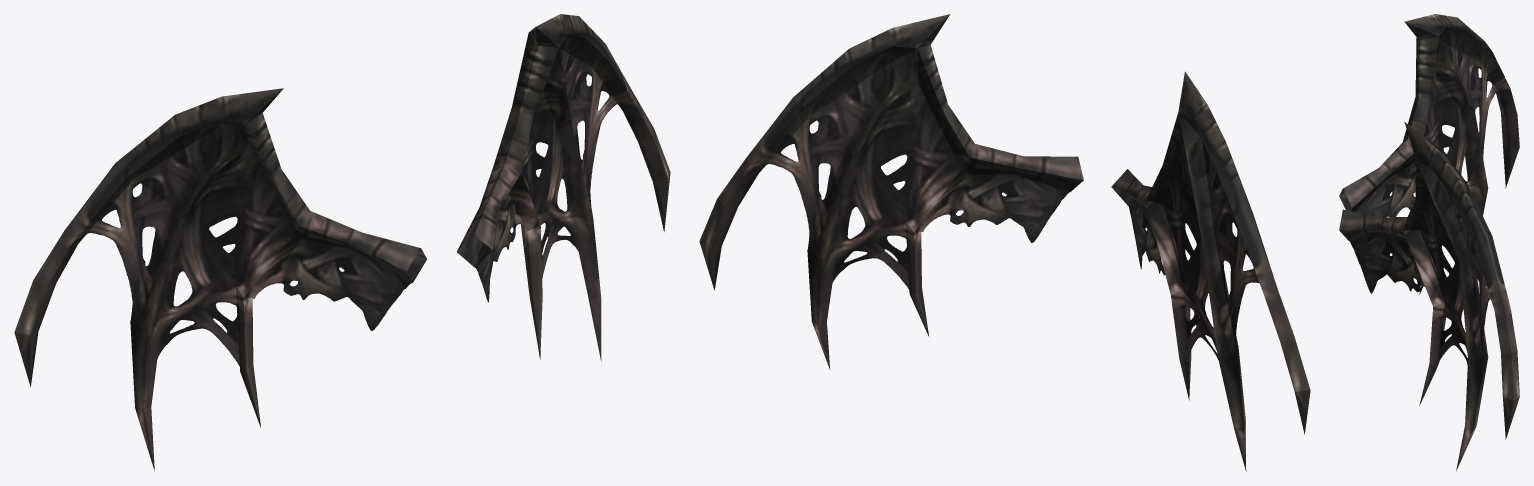
File: add_back07.FBX
The picture shows the model from 3 angles, left to right: view 1: azimuth 30°, elevation 25°; view 2: azimuth 150°, elevation 25°; view 3: azimuth 270°, elevation 25°; orthographic projection. The views are drawn at different scales.
Parts seen in each view (by area): view 1: Cylinder005; view 2: Cylinder005; view 3: Cylinder005.
Boxes of the visible parts, x1,y1,x2,y2 form: Cylinder005: [14, 14, 670, 470]; Cylinder005: [699, 14, 1310, 471]; Cylinder005: [1339, 14, 1519, 471].
Size of the model in its own units: 3.16 by 1.77 by 0.9282.
